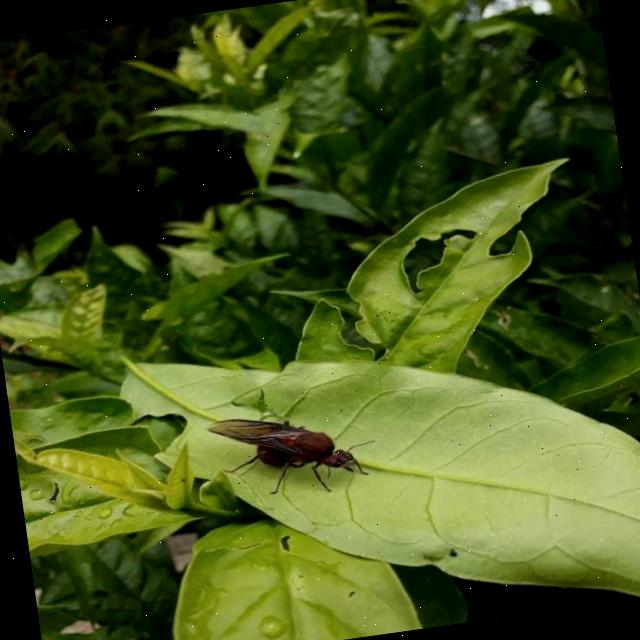Alive-Female-Alate: (205, 399, 384, 508)
